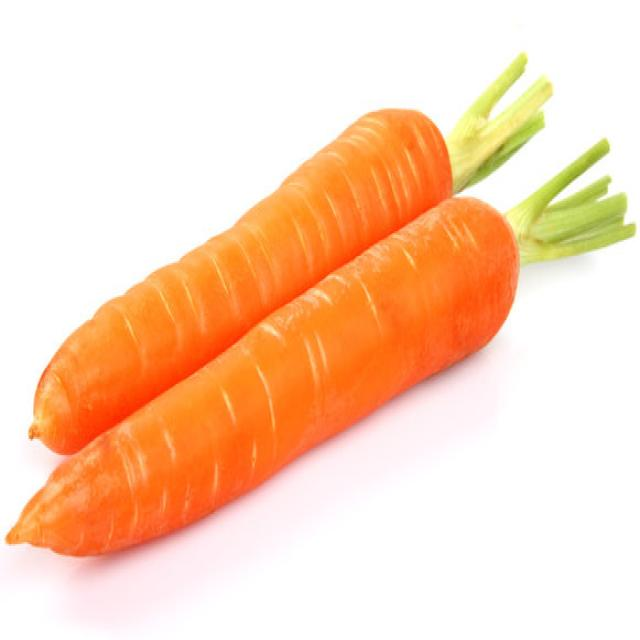Carrot: (3, 132, 634, 556)
